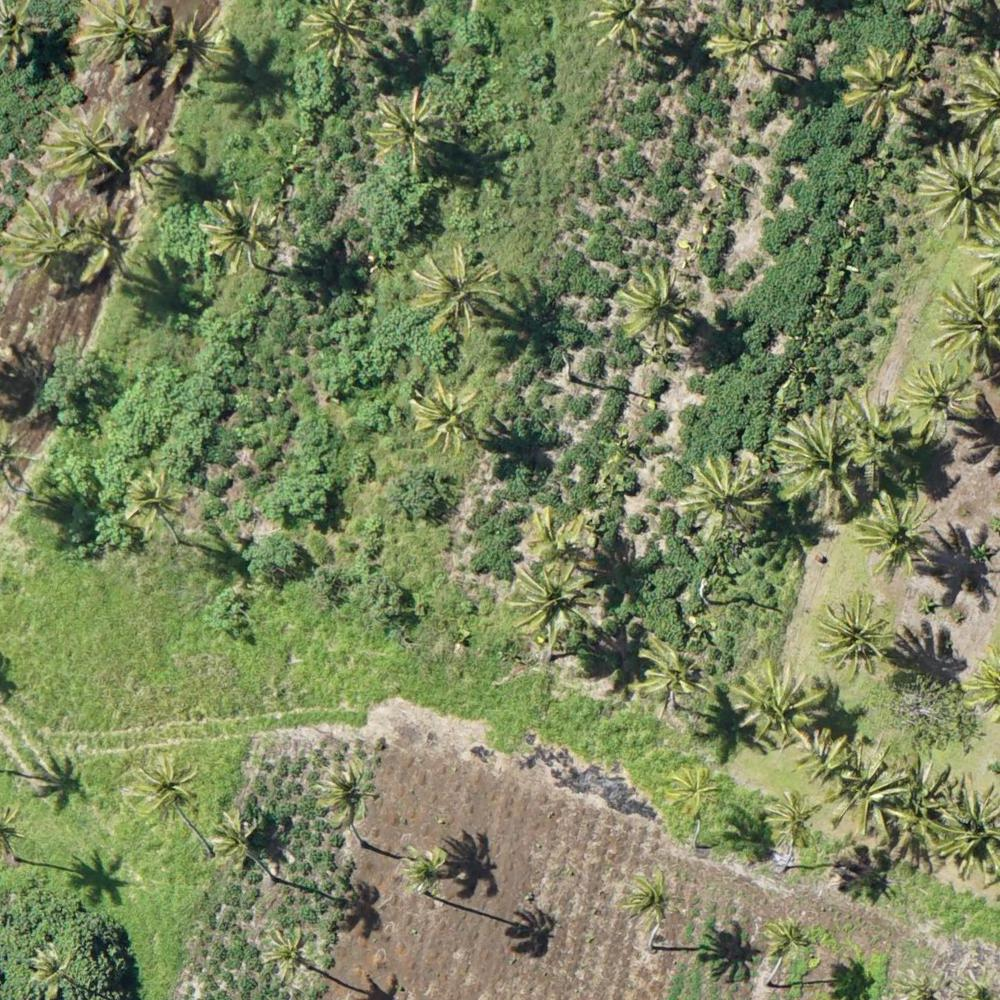Palm: (774, 405, 869, 505), (914, 143, 1000, 237), (408, 250, 501, 330), (507, 560, 595, 641), (928, 277, 1000, 372), (739, 660, 825, 739), (897, 364, 980, 445), (841, 43, 920, 125), (686, 454, 768, 533), (41, 101, 122, 180), (371, 86, 446, 169), (935, 779, 1000, 874), (859, 492, 935, 573), (818, 598, 897, 675), (635, 636, 713, 712), (6, 195, 79, 276), (406, 375, 480, 454), (623, 265, 697, 344), (199, 188, 275, 264), (73, 205, 151, 279), (300, 1, 383, 69), (80, 2, 165, 68), (121, 463, 193, 538), (709, 8, 782, 79), (128, 756, 198, 822), (175, 7, 242, 75), (253, 922, 320, 989), (316, 763, 383, 828), (757, 794, 817, 848), (661, 763, 719, 816), (621, 865, 674, 921), (29, 942, 80, 998), (398, 842, 451, 895), (213, 811, 265, 860), (765, 911, 816, 957)
